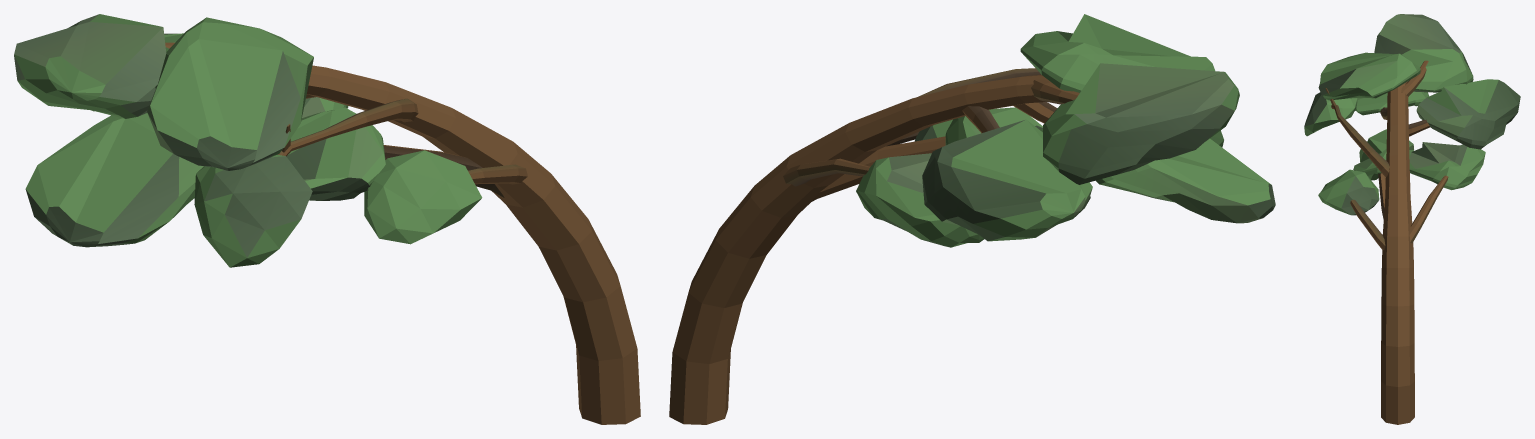
File: Tree72Bend 1.fbx
3 renders of one model, left to right at view 1: azimuth 30°, elevation 25°; view 2: azimuth 150°, elevation 25°; view 3: azimuth 270°, elevation 25°, orthographic. The views are drawn at different scales.
Visible parts, largest first — view 1: Cylinder.016; view 2: Cylinder.016; view 3: Cylinder.016.
Part boxes in pixels (left/top/right/bottom): Cylinder.016: left=14, top=14, right=640, bottom=424; Cylinder.016: left=669, top=14, right=1275, bottom=424; Cylinder.016: left=1304, top=14, right=1520, bottom=424.
Size of the model in its own units: 741 by 572 by 430.
